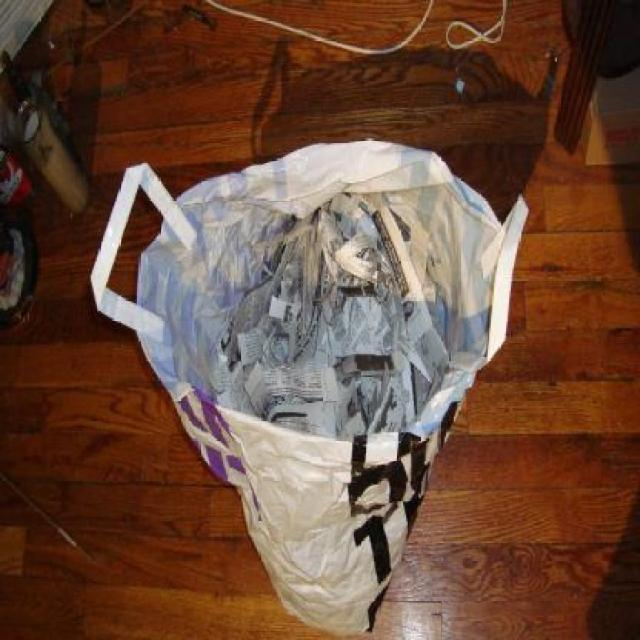plastic bag: (89, 134, 529, 634)
